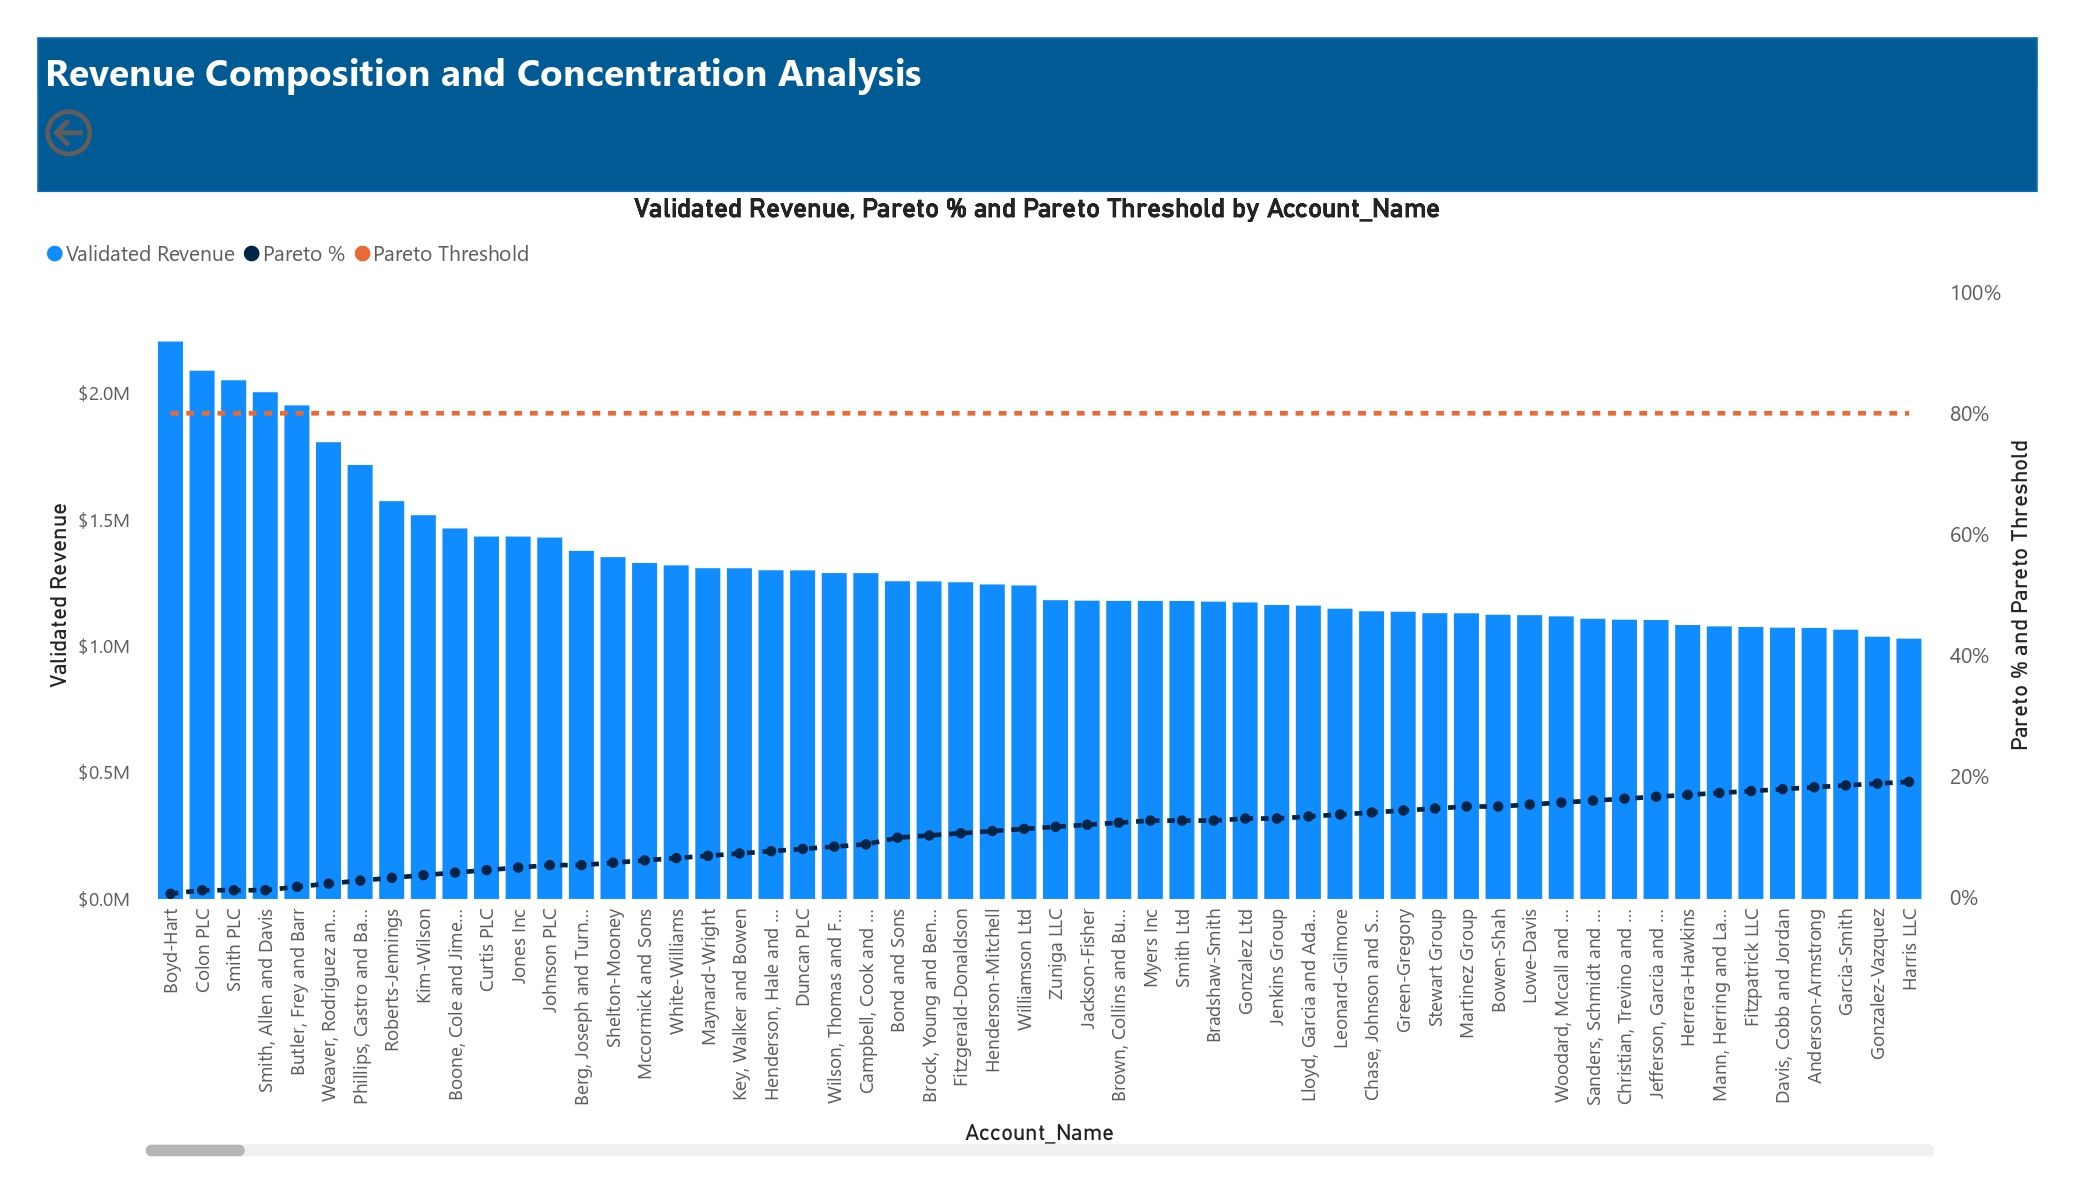

The page's visual inventory and layout, read from the dashboard file:
{"tool":"powerbi","page":{"name":"Pareto Analysis","canvas":[1280,720],"ordinal":4},"visuals":[{"type":"shape","box":[0,0,1280.1,99.2],"z":0},{"type":"textbox","box":[0,0,769.4,45.5],"z":1000},{"type":"actionButton","box":[0,40.7,99.2,40.7],"z":2000},{"type":"lineClusteredColumnComboChart","fields":{"Category":["dim_account.Account_Name"],"Y":["DAX_Measures.Validated Revenue"],"Y2":["DAX_Measures.Pareto %","DAX_Measures.Pareto Threshold"]},"box":[0,99.2,1280.1,621.3],"z":3000}]}

Visuals, with their boxes on the page's 1280x720 design canvas (x1, y1, x2, y2). These are canvas units, not pixel positions in the 2075x1200 screenshot, which may show the page scaled, cropped or inside an application window:
shape: [left=0, top=0, right=1280, bottom=99]
textbox: [left=0, top=0, right=769, bottom=46]
actionButton: [left=0, top=41, right=99, bottom=81]
lineClusteredColumnComboChart - dim_account.Account_Name x DAX_Measures.Validated Revenue: [left=0, top=99, right=1280, bottom=720]
